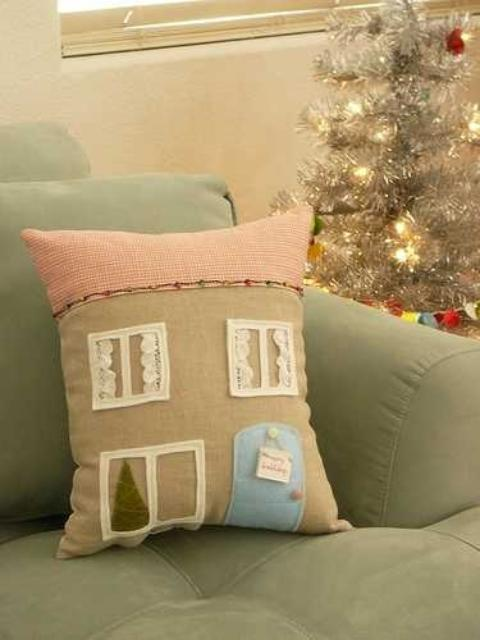pillow: (19, 202, 354, 560)
